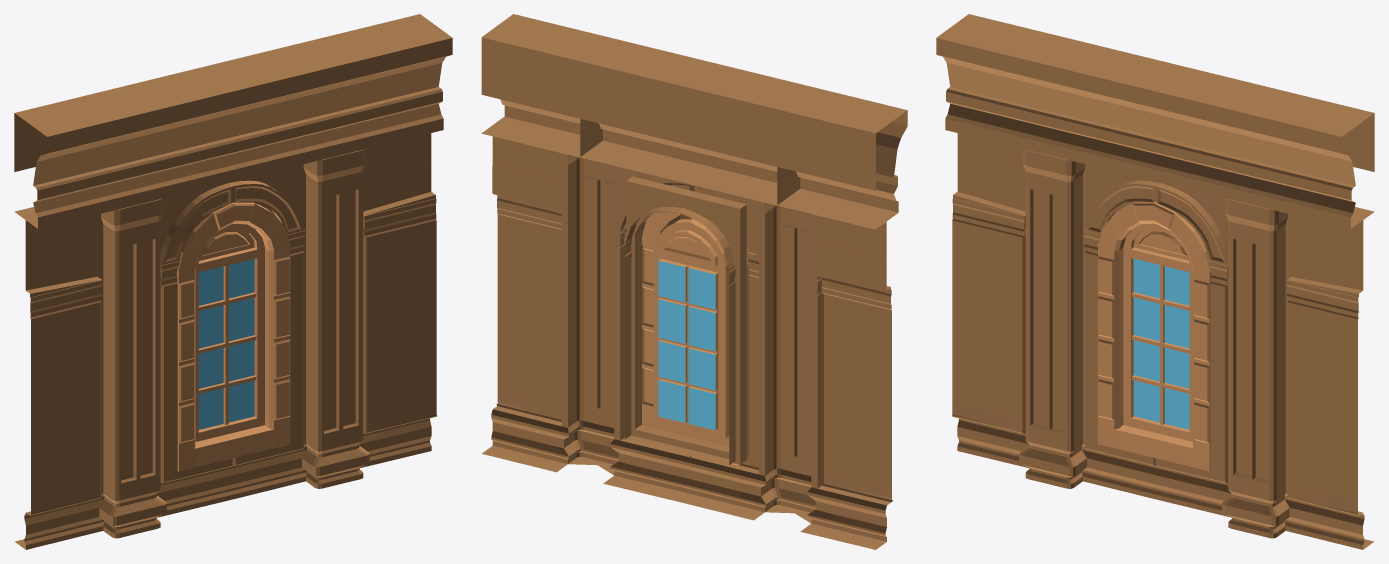
The model's file is O_V_FacadeType1_Midl.fbx.
3 views of the same model, side by side, from view 1: azimuth 30°, elevation 25°; view 2: azimuth 150°, elevation 25°; view 3: azimuth 330°, elevation 25° (orthographic). The views are drawn at different scales.
Visible parts, largest first — view 1: O_FacadeType1_Midl; view 2: O_FacadeType1_Midl; view 3: O_FacadeType1_Midl.
Part boxes in pixels (<box>): O_FacadeType1_Midl: <box>14,14,452,549</box>; O_FacadeType1_Midl: <box>481,14,907,549</box>; O_FacadeType1_Midl: <box>936,14,1374,549</box>.
Size of the model in its own units: 6.49 by 6.5 by 0.9423.
